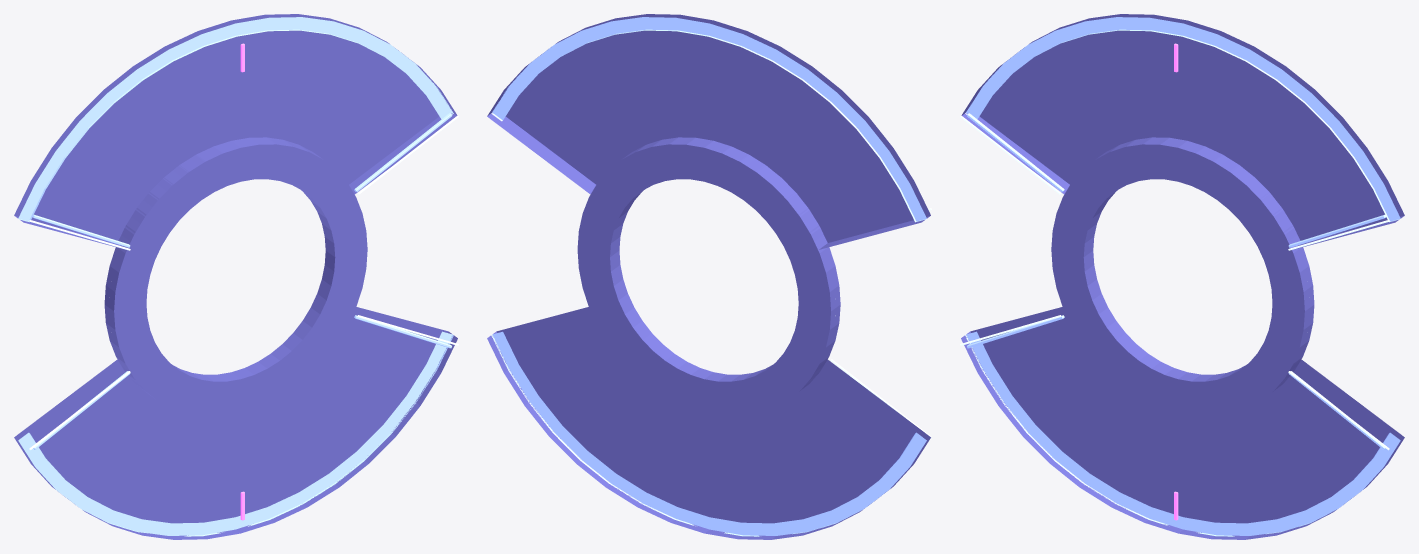
The model's file is prism-panel-fun9-medium.glb.
3 renders of one model, left to right at view 1: azimuth 30°, elevation 25°; view 2: azimuth 150°, elevation 25°; view 3: azimuth 330°, elevation 25°, orthographic.
Parts seen in each view (by area): view 1: RENDER_PANEL_SHELL, RENDER_PANEL_FRAME, RENDER_PANEL_SIGNAL; view 2: RENDER_PANEL_SHELL, RENDER_PANEL_FRAME; view 3: RENDER_PANEL_SHELL, RENDER_PANEL_FRAME, RENDER_PANEL_SIGNAL.
Boxes of the visible parts, <box> form: RENDER_PANEL_SHELL: <box>14,14,457,539</box>; RENDER_PANEL_FRAME: <box>18,17,453,536</box>; RENDER_PANEL_SIGNAL: <box>29,115,458,450</box>; RENDER_PANEL_SHELL: <box>487,14,930,539</box>; RENDER_PANEL_FRAME: <box>491,17,926,536</box>; RENDER_PANEL_SHELL: <box>961,14,1404,539</box>; RENDER_PANEL_FRAME: <box>965,17,1400,536</box>; RENDER_PANEL_SIGNAL: <box>960,115,1389,450</box>.
Size of what is drawn, in the model's own units: 36.85 by 41 by 1.95.
